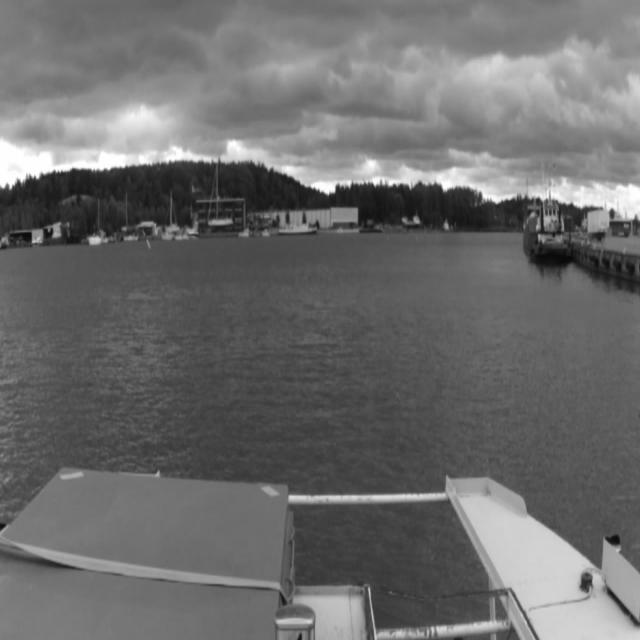buoy: (142, 229, 152, 249)
ship: (532, 161, 570, 269), (207, 164, 233, 225), (86, 234, 102, 246), (238, 228, 250, 238), (261, 228, 270, 238)
